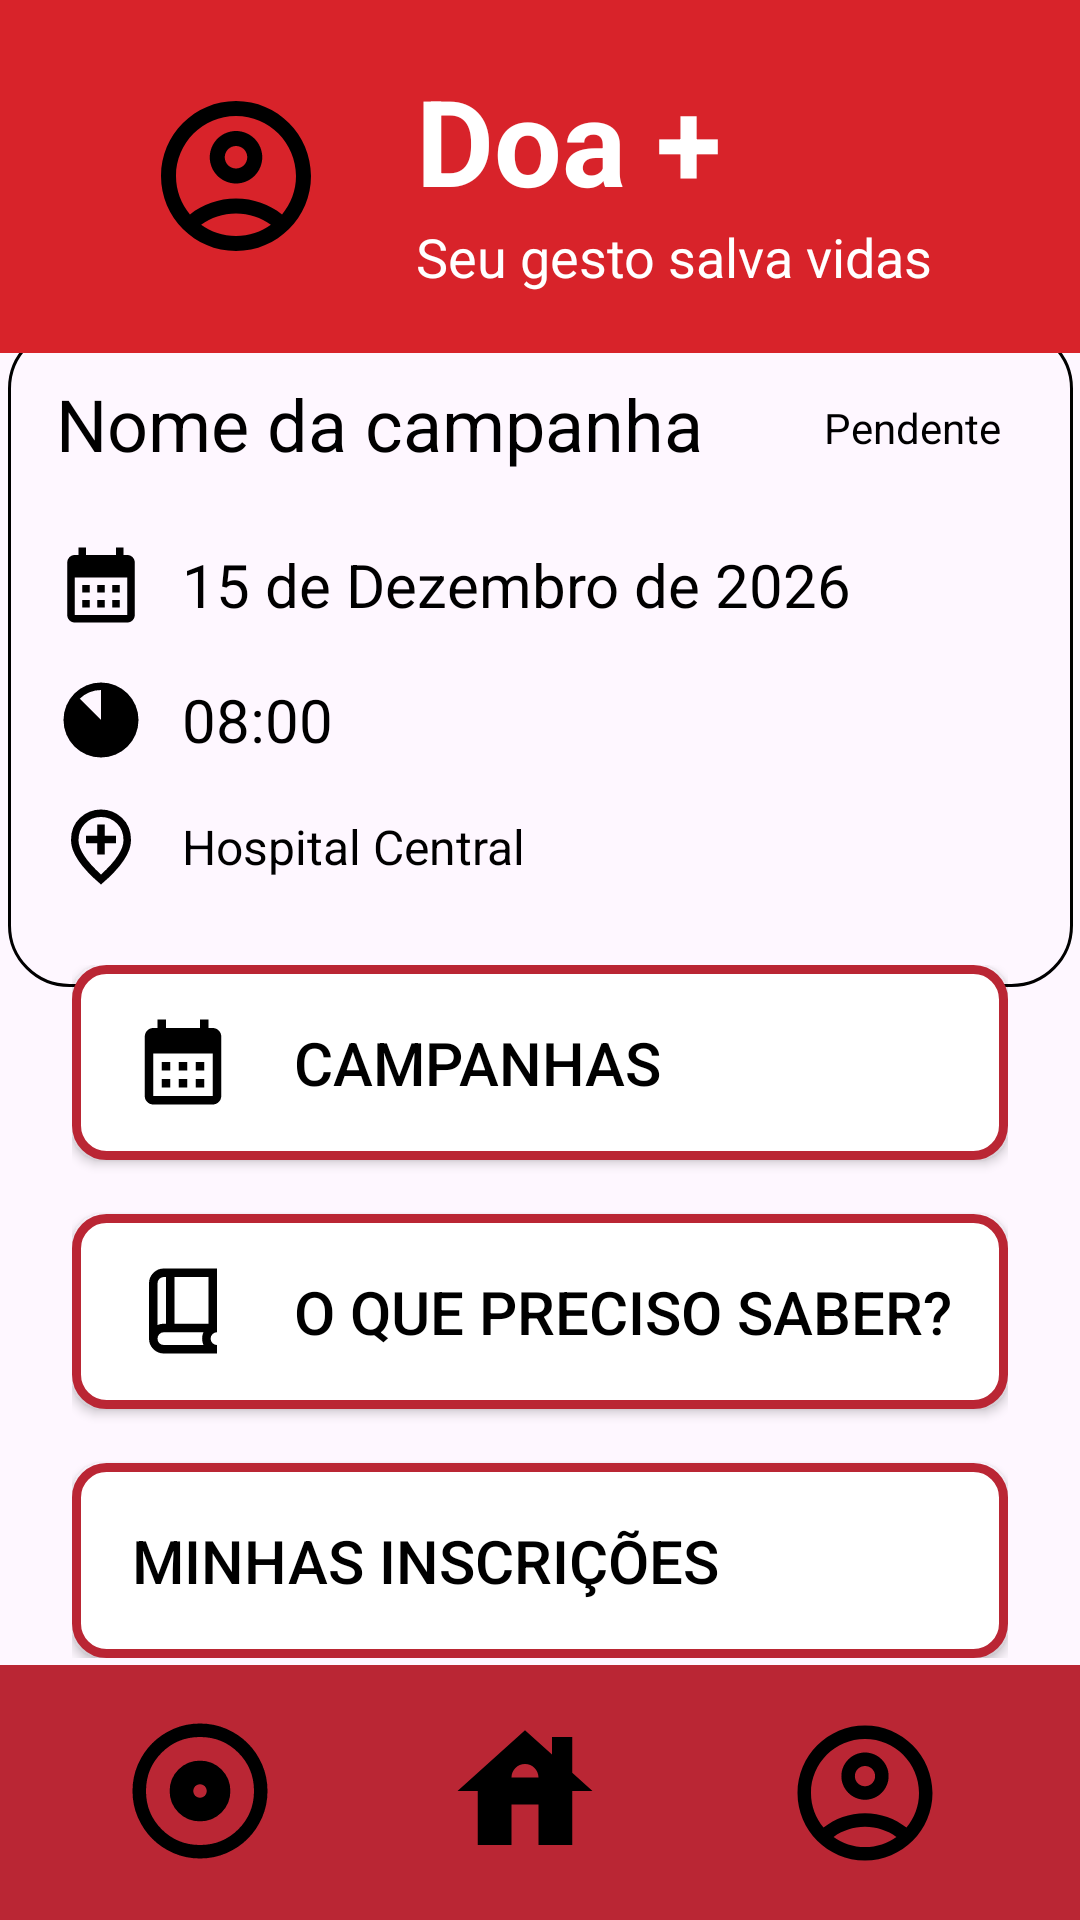

Screen size 1080w x 1920h. Icon name, then its center in pixels as point (x, y):
album: point (200, 1791)
Data da campanha: point (101, 585)
Horário da campanha: point (101, 720)
house: point (525, 1787)
Local da campanha: point (101, 847)
